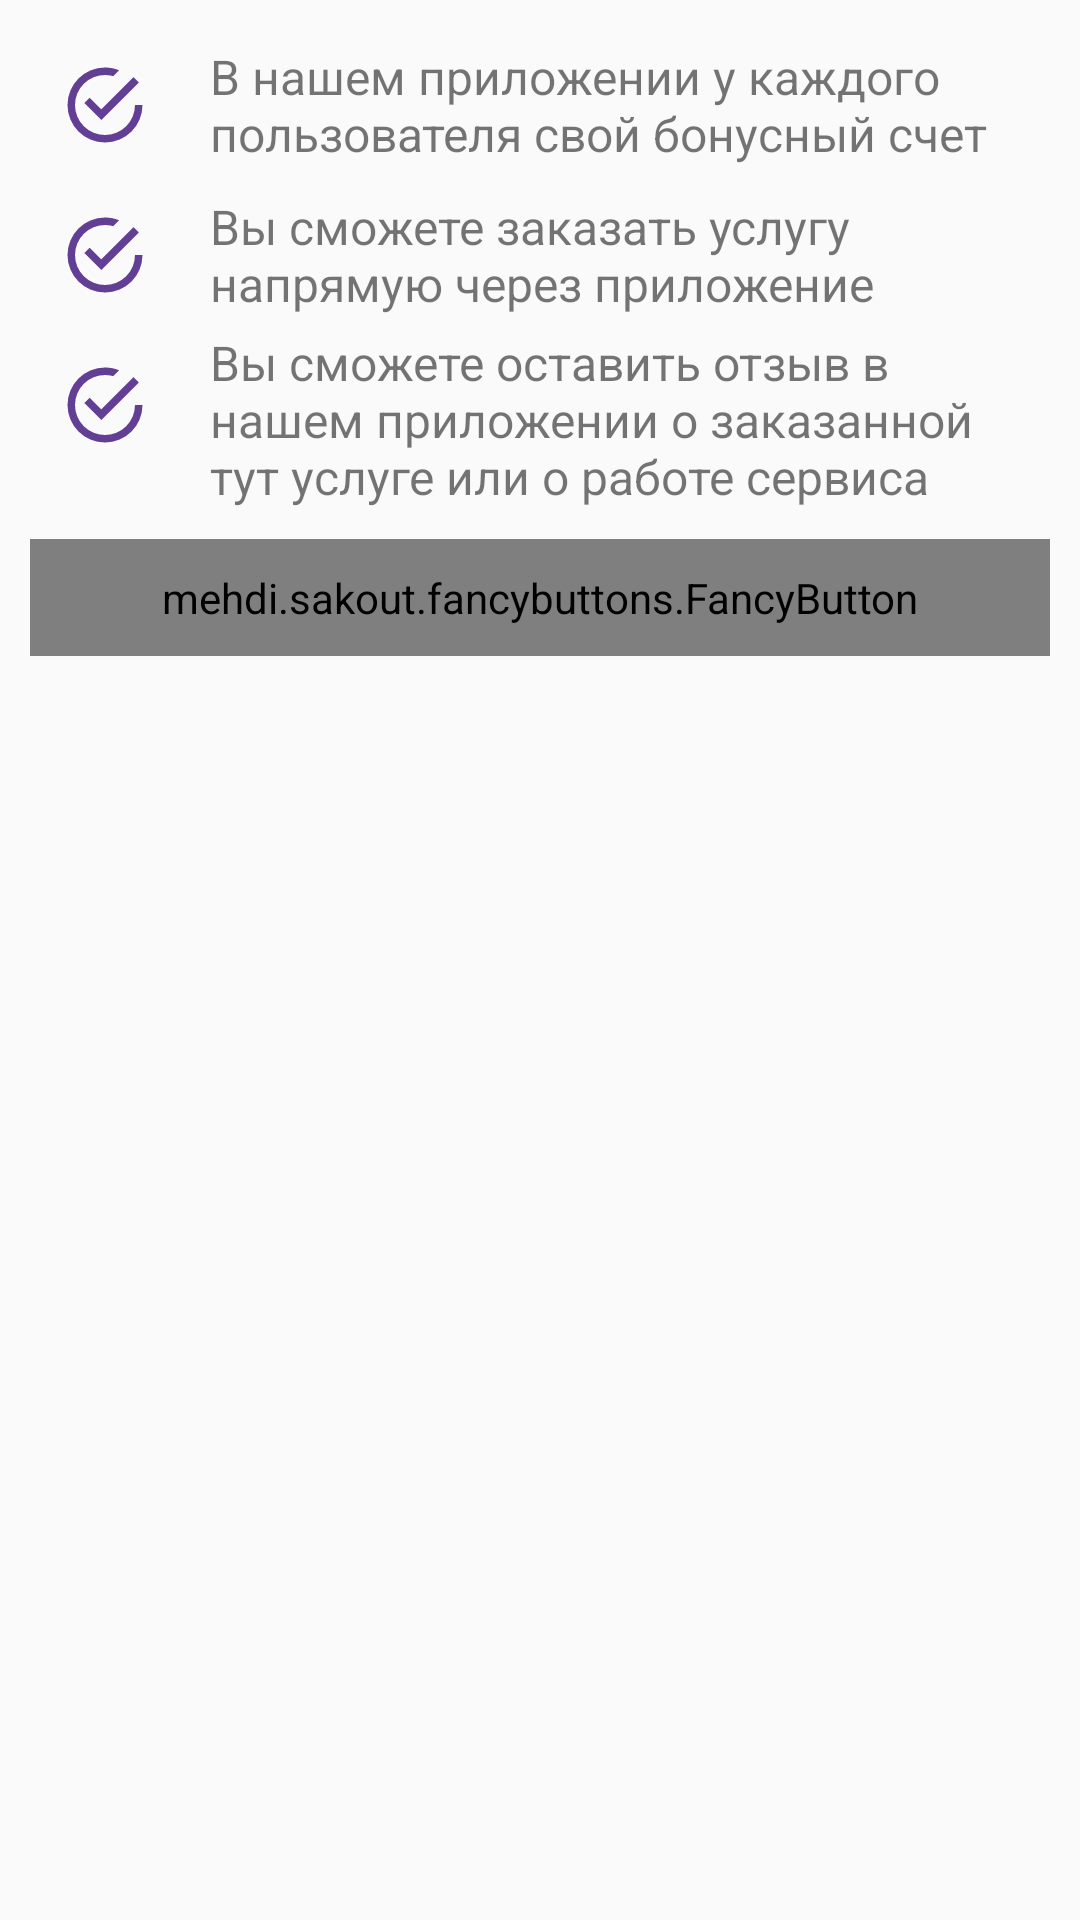

Screen size 1080×1920. Icon name, then its box in pixels as (x1, y1, x2, y2):
checkbox marked circle: (67, 67, 143, 143), (67, 217, 143, 293), (67, 367, 143, 443)
